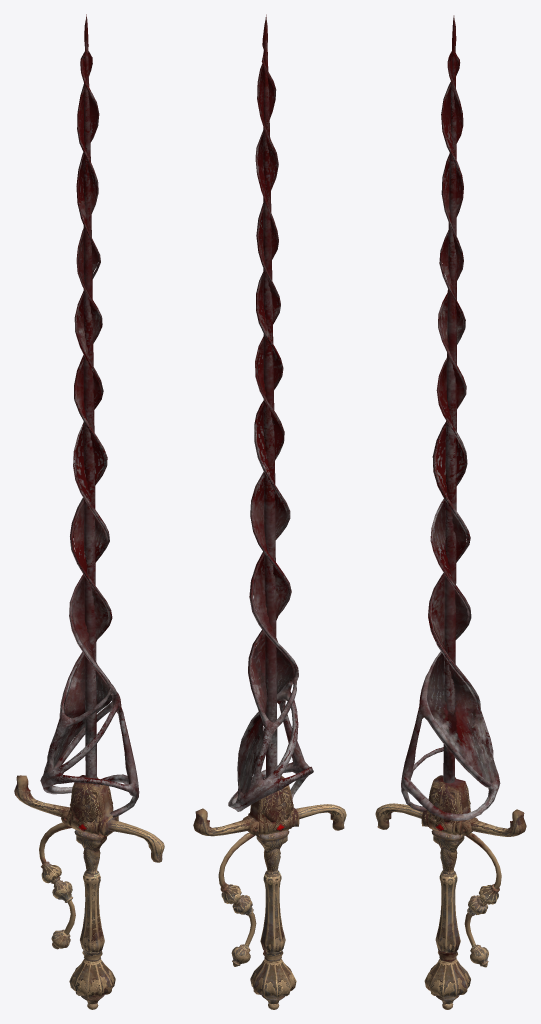
The model's file is so_pd_bloodyheliceoh.glb.
3 renders of one model, left to right at view 1: azimuth 90°, elevation 25°; view 2: azimuth 150°, elevation 25°; view 3: azimuth 270°, elevation 25°, orthographic.
Visible parts, largest first — view 1: BloodyHelice; view 2: BloodyHelice; view 3: BloodyHelice.
Part boxes in pixels (x1,y1,x2,y2): BloodyHelice: (14,14,164,1009); BloodyHelice: (193,14,346,1009); BloodyHelice: (375,15,526,1009).
Bounding box in the file's own units: 7.22 × 83.8 × 11.52.
Materials: 1 (1 with a texture image).
